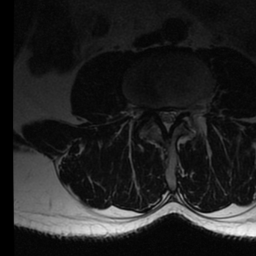CCS_normal: (163, 102, 171, 139)
LFS_severe_stenosis: (179, 96, 189, 123)
LLS_stenosis: (171, 100, 180, 131)
RFS_severe_stenosis: (145, 97, 155, 125)
RLS_stenosis: (155, 101, 163, 127)
